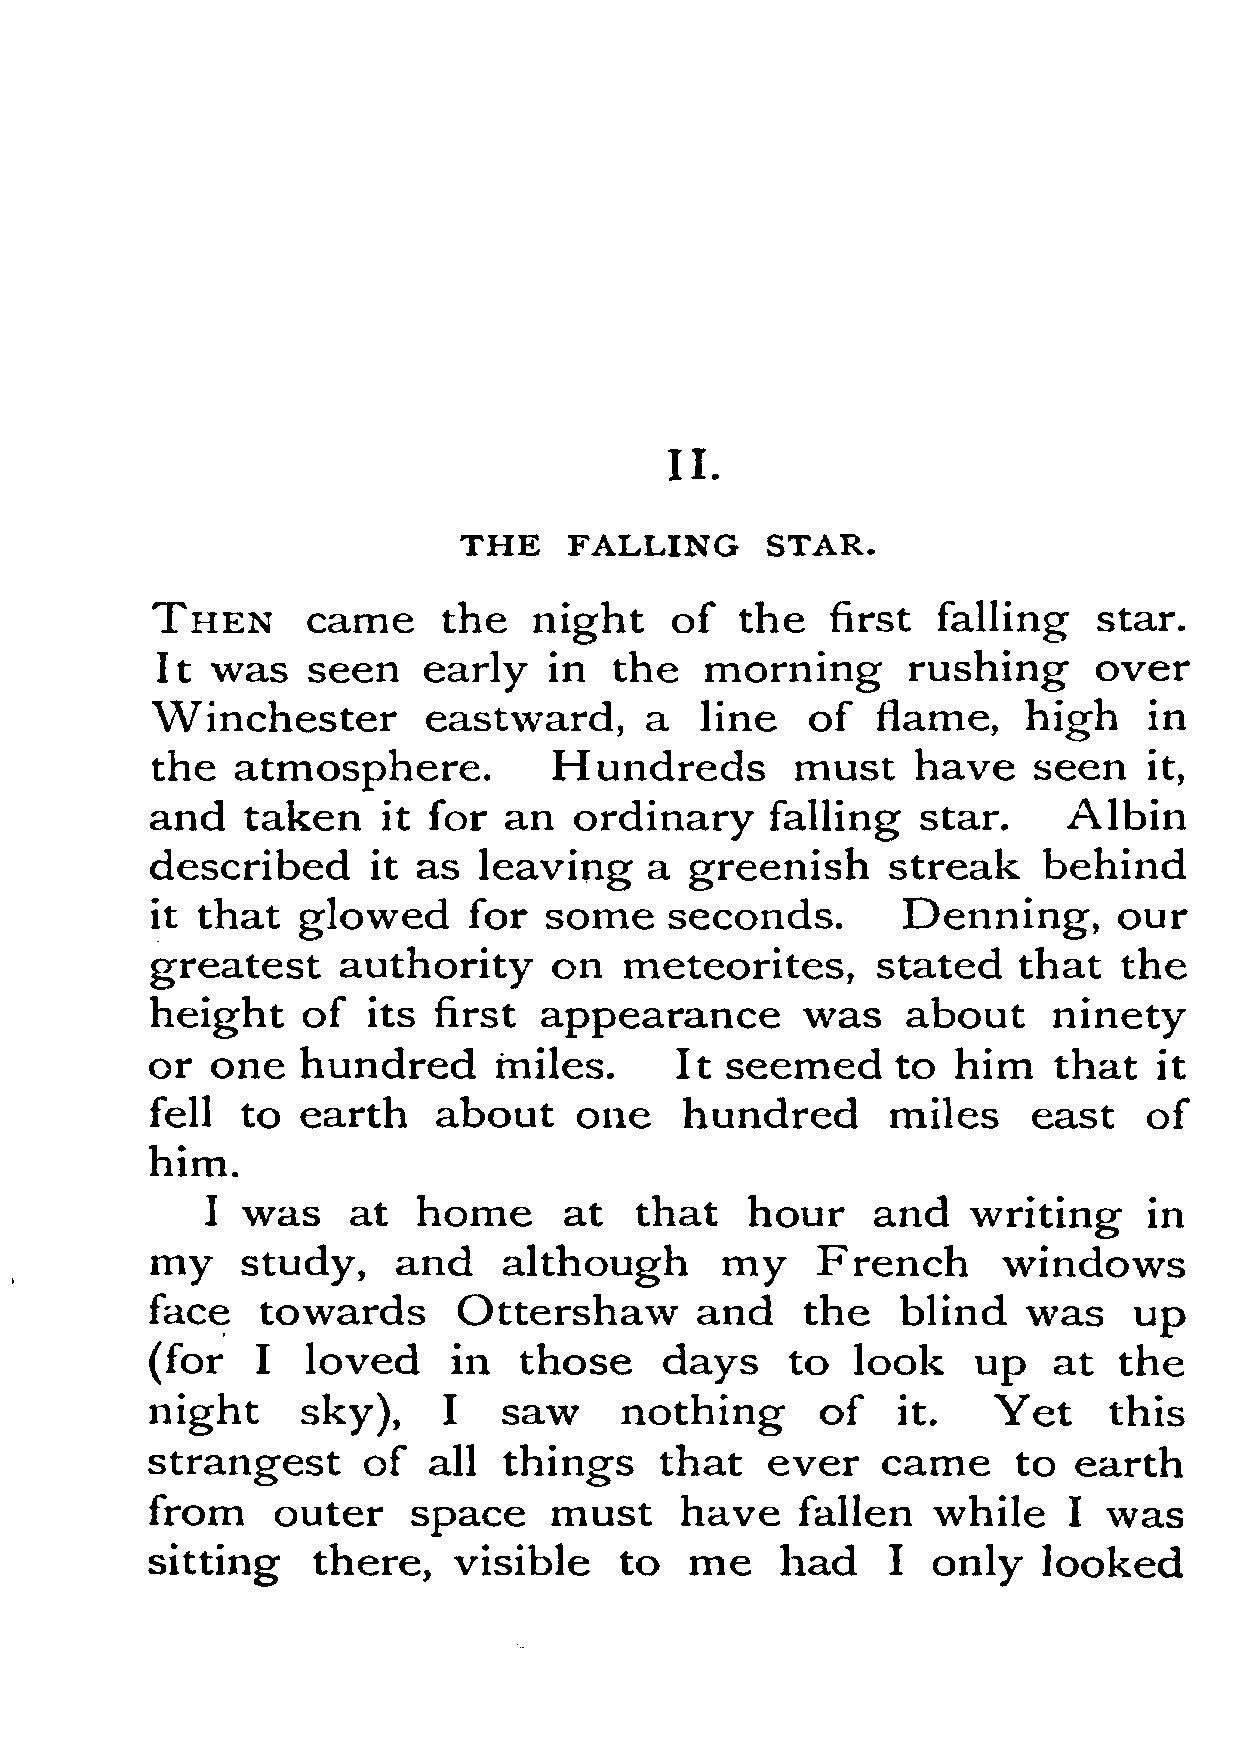chapter: (455, 448, 879, 560)
content: (146, 597, 1194, 1592)
